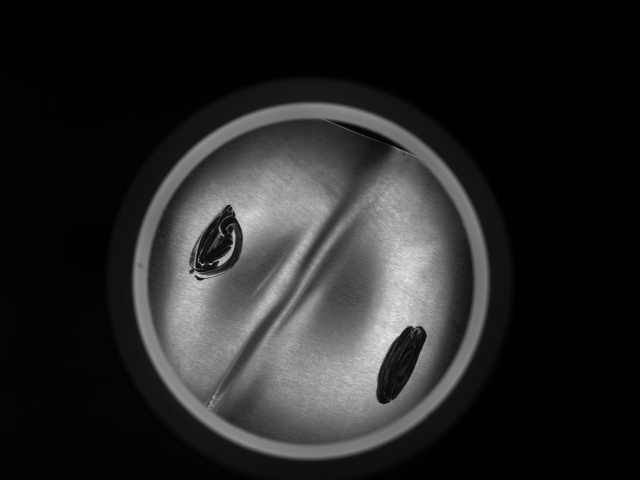zang_wu: (187, 201, 250, 281), (375, 323, 429, 405)
zhe_zhou: (190, 146, 427, 411)
